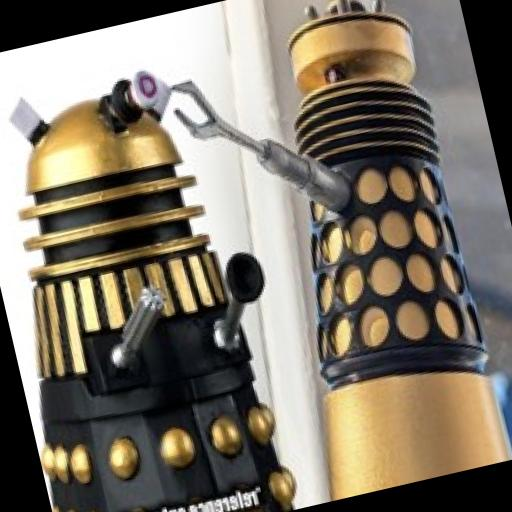dalek: (0, 50, 317, 512)
